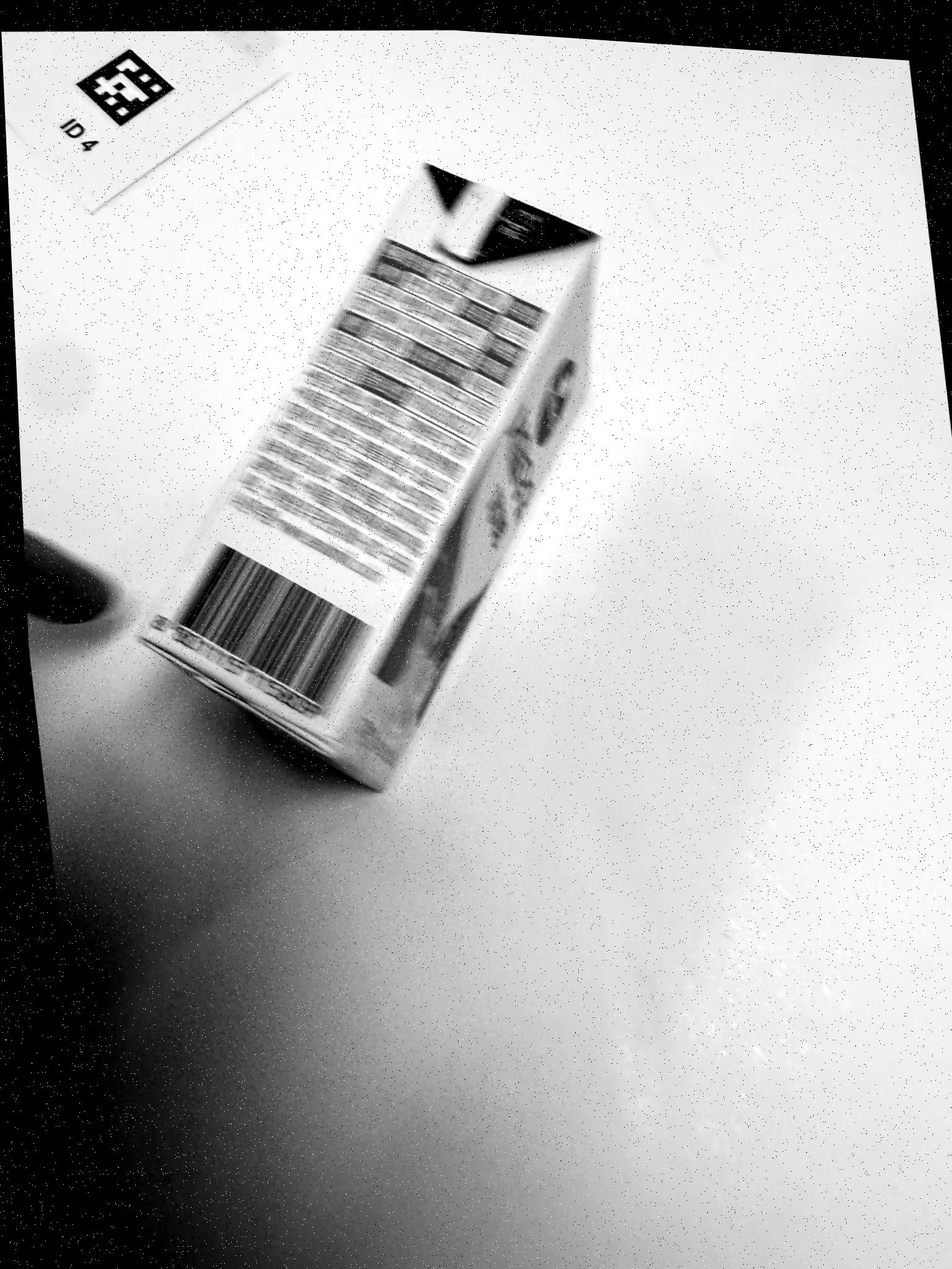milk_blue: (141, 166, 599, 790)
